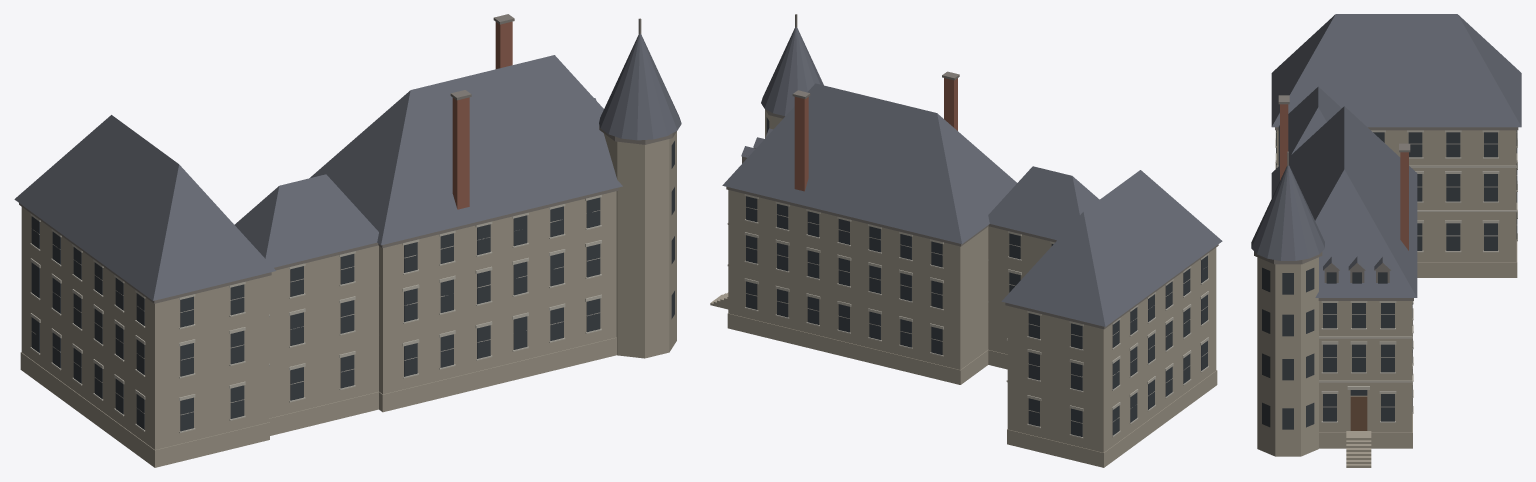
Rendered from kimball_house_1801_prairie__draft_1904.glb.
The picture shows the model from 3 angles, left to right: view 1: azimuth 30°, elevation 25°; view 2: azimuth 150°, elevation 25°; view 3: azimuth 270°, elevation 25°; orthographic projection. The views are drawn at different scales.
Visible parts, largest first — view 1: kimball_house_1801_prairie__draft_1904; view 2: kimball_house_1801_prairie__draft_1904; view 3: kimball_house_1801_prairie__draft_1904.
Part boxes in pixels (bbox=[...]): kimball_house_1801_prairie__draft_1904: bbox=[14, 14, 681, 467]; kimball_house_1801_prairie__draft_1904: bbox=[710, 14, 1222, 467]; kimball_house_1801_prairie__draft_1904: bbox=[1251, 14, 1521, 467].
Size of the model in its own units: 41.15 by 23.1 by 19.41.
